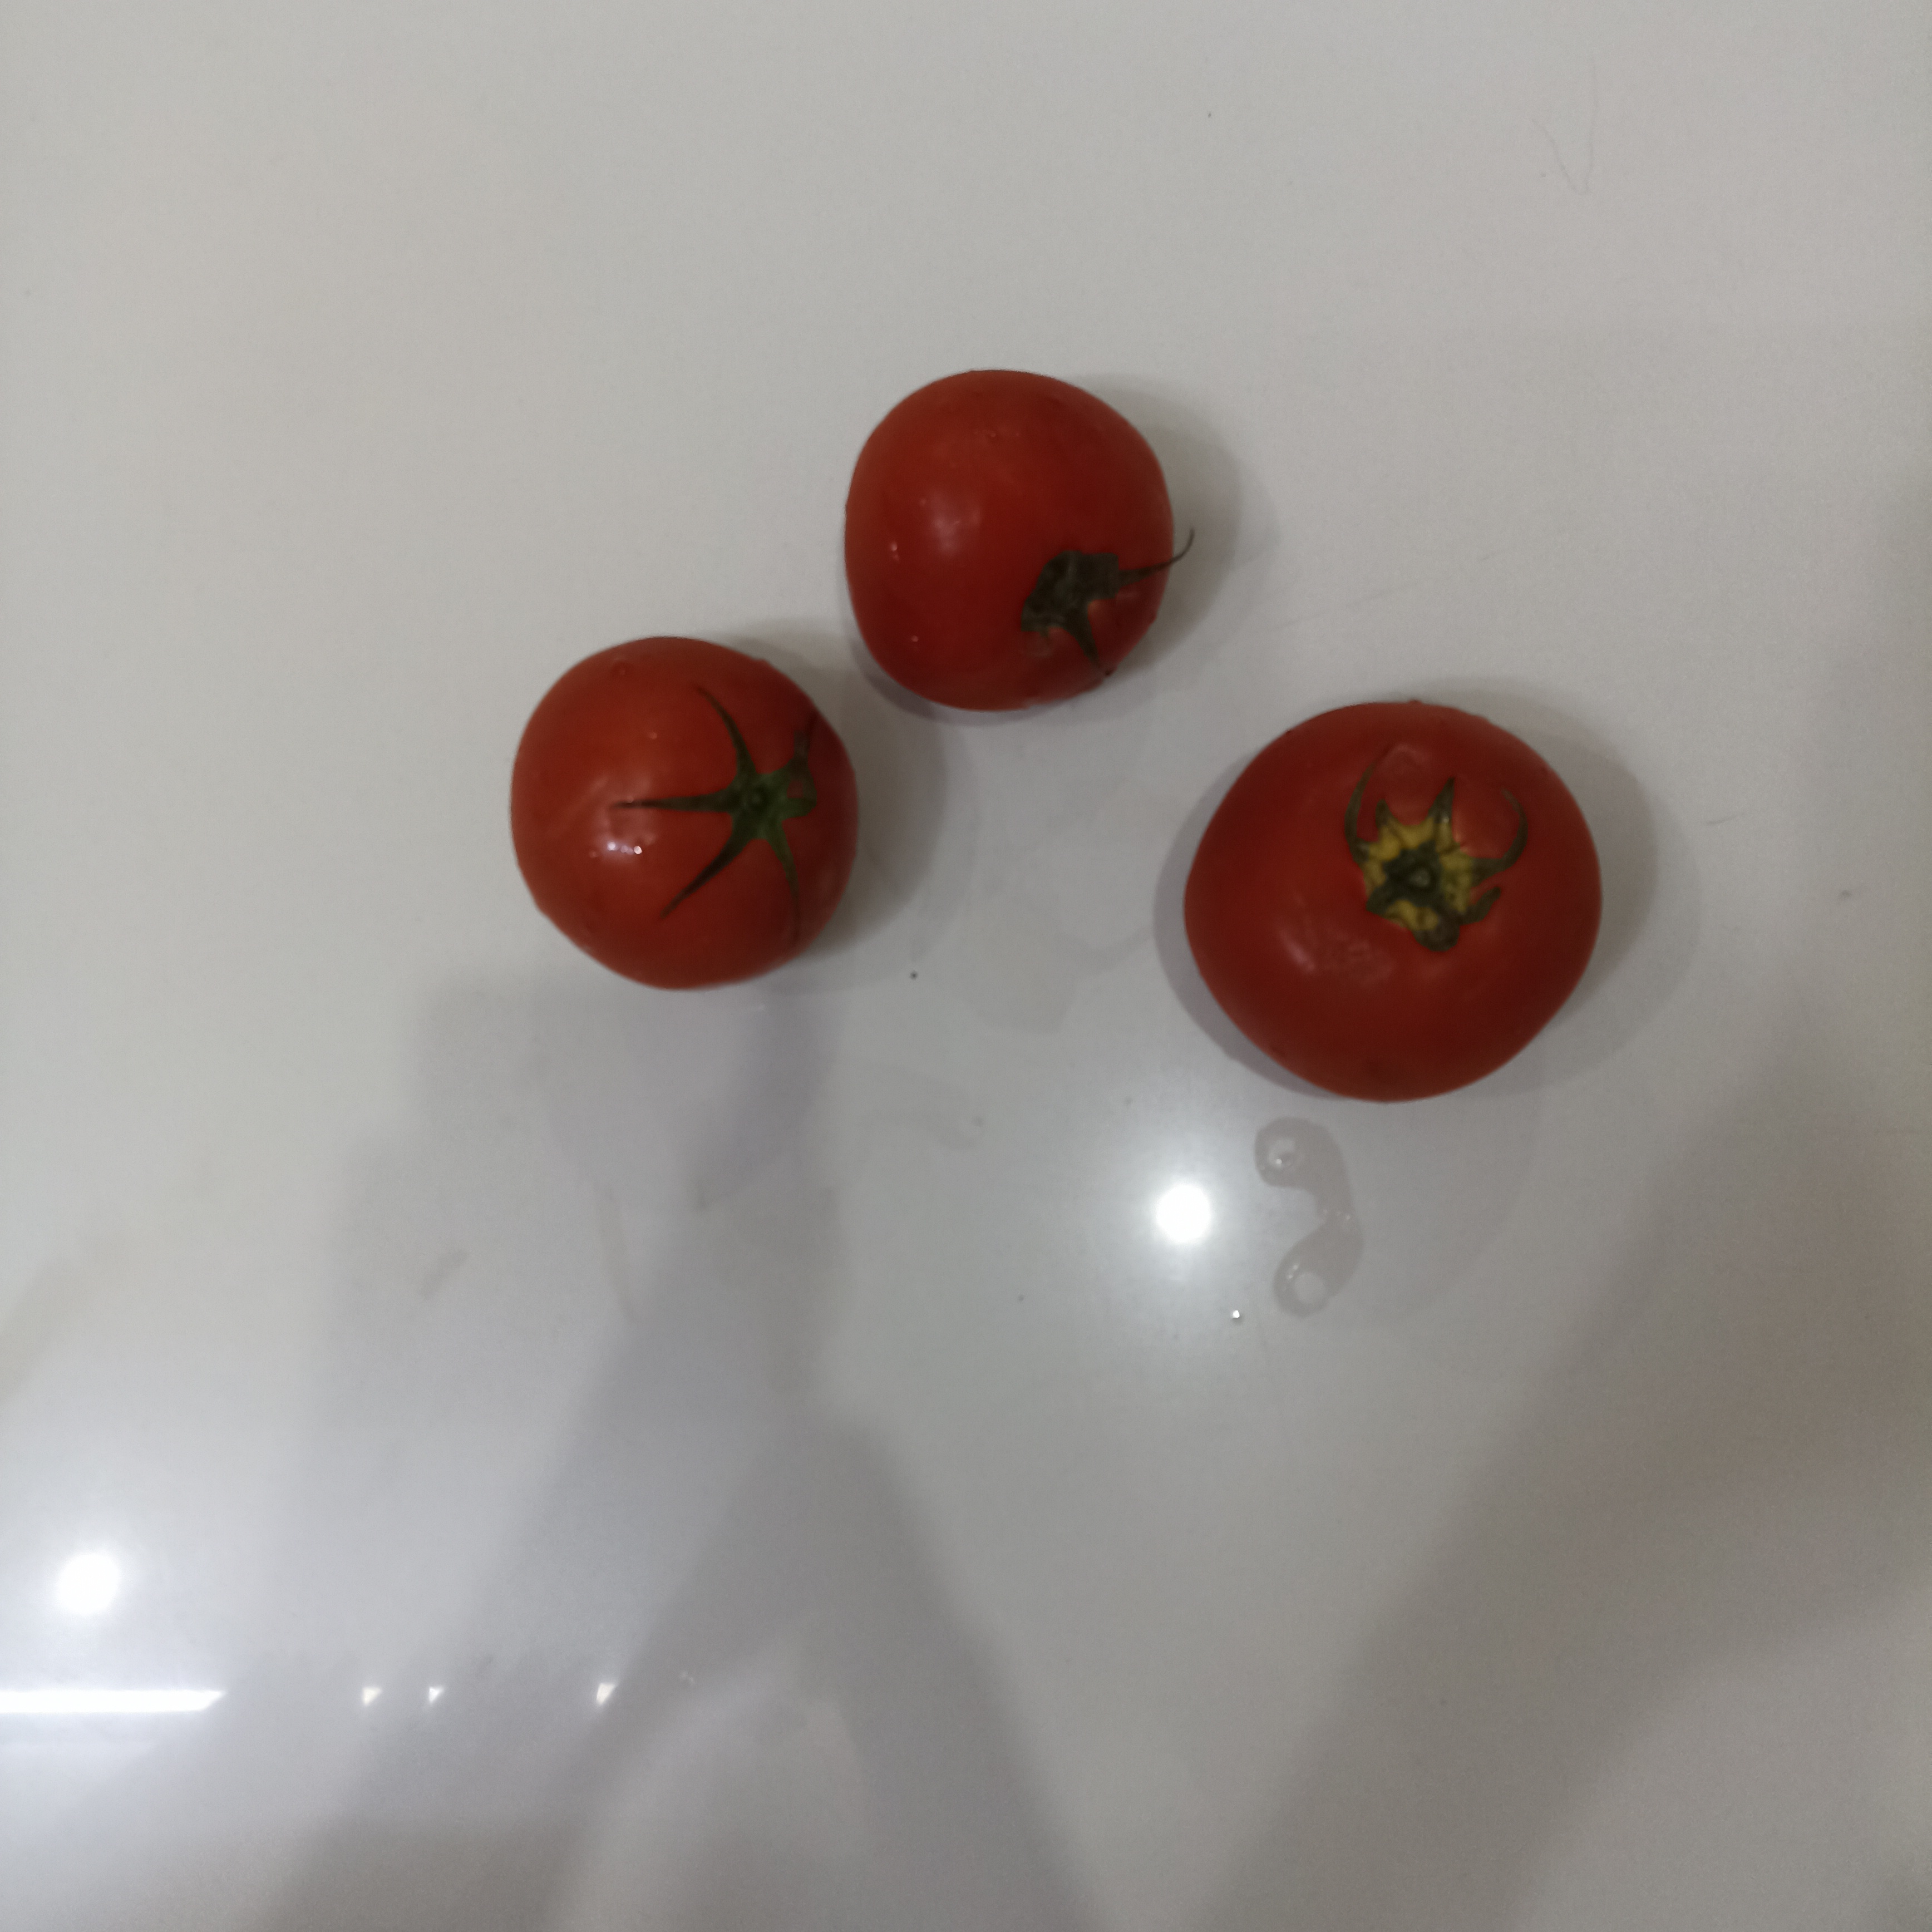Ca chua: (1184, 702, 1599, 1104), (510, 639, 863, 998), (844, 368, 1178, 711)
